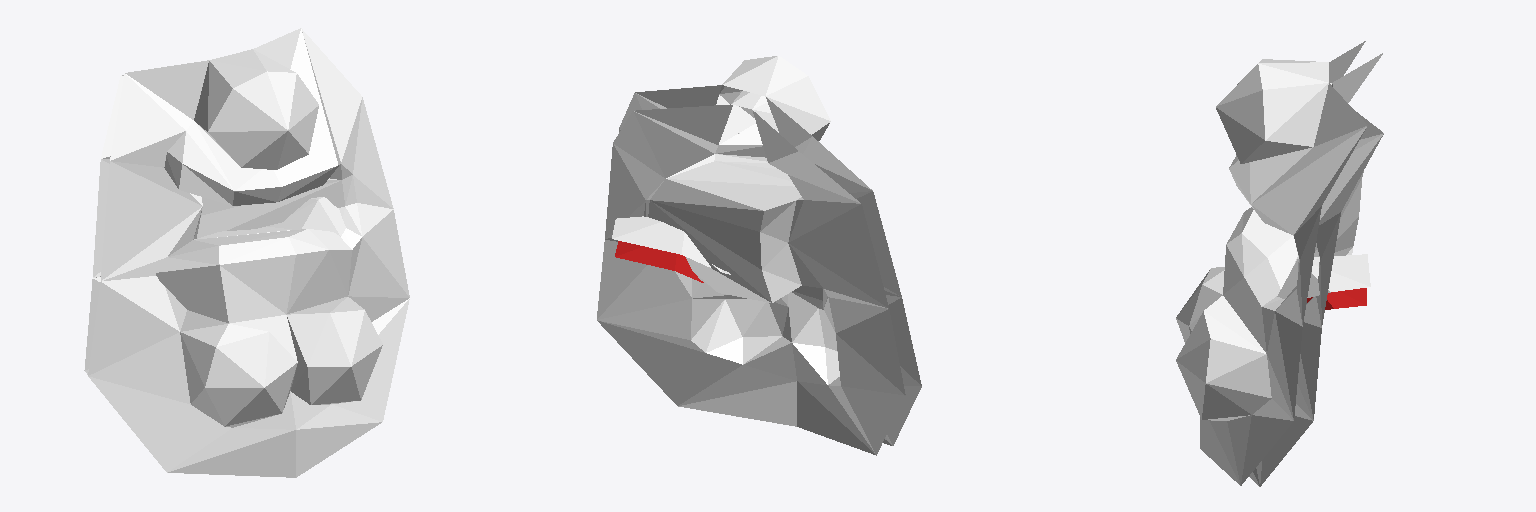
3 renders of one model, left to right at view 1: azimuth 30°, elevation 25°; view 2: azimuth 150°, elevation 25°; view 3: azimuth 270°, elevation 25°, orthographic.
Visible parts, largest first — view 1: Mesh_0001.002_Mesh_0001Mesh.002, Mesh_0002.001_Mesh_0002Mesh.001; view 2: Mesh_0002.001_Mesh_0002Mesh.001, Mesh_0001.002_Mesh_0001Mesh.002, Mesh_0003.002_Mesh_0003Mesh.002; view 3: Mesh_0001.002_Mesh_0001Mesh.002, Mesh_0002.001_Mesh_0002Mesh.001, Mesh_0003.002_Mesh_0003Mesh.002.
Part boxes in pixels (x1,y1,x2,y2): Mesh_0001.002_Mesh_0001Mesh.002: (88, 28, 409, 477); Mesh_0002.001_Mesh_0002Mesh.001: (84, 75, 123, 374); Mesh_0002.001_Mesh_0002Mesh.001: (597, 91, 905, 455); Mesh_0001.002_Mesh_0001Mesh.002: (612, 56, 921, 445); Mesh_0003.002_Mesh_0003Mesh.002: (615, 241, 703, 282); Mesh_0001.002_Mesh_0001Mesh.002: (1176, 41, 1370, 485); Mesh_0002.001_Mesh_0002Mesh.001: (1249, 53, 1383, 486); Mesh_0003.002_Mesh_0003Mesh.002: (1307, 288, 1366, 309).
Bounding box in the file's own units: 0.3641 × 0.416 × 0.2043.
Materials: 3 (1 with a texture image).